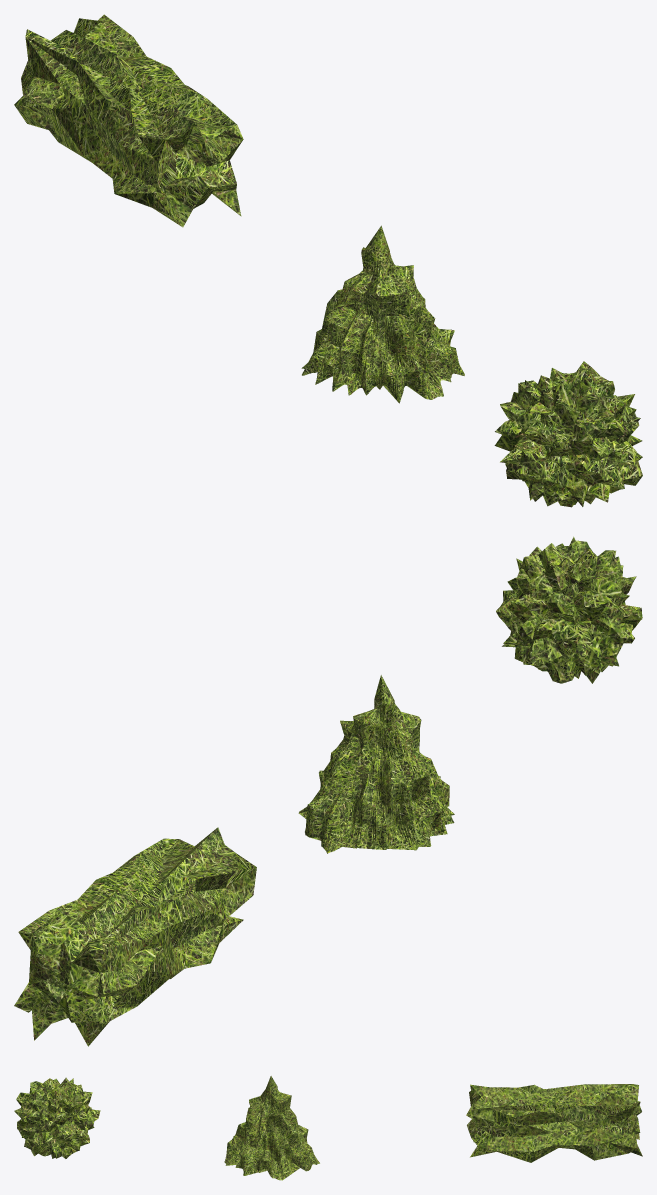
File: semak kotak.fbx
3 views of the same model, one above another, from view 1: azimuth 30°, elevation 25°; view 2: azimuth 150°, elevation 25°; view 3: azimuth 270°, elevation 25° (orthographic). The views are drawn at different scales.
Visible parts, largest first — view 1: Cube.002, Icosphere, Cone; view 2: Cube.002, Cone, Icosphere; view 3: Cube.002, Cone, Icosphere.
Boxes of the visible parts, x1=… form: Cube.002: x1=14, y1=14, x2=243, y2=227; Icosphere: x1=494, y1=361, x2=642, y2=507; Cone: x1=301, y1=225, x2=464, y2=403; Cube.002: x1=14, y1=827, x2=256, y2=1046; Cone: x1=298, y1=675, x2=454, y2=853; Icosphere: x1=496, y1=536, x2=642, y2=683; Cube.002: x1=466, y1=1084, x2=642, y2=1162; Cone: x1=224, y1=1076, x2=319, y2=1180; Icosphere: x1=14, y1=1077, x2=100, y2=1158.
Size of the model in its own units: 143 by 146 by 971.
